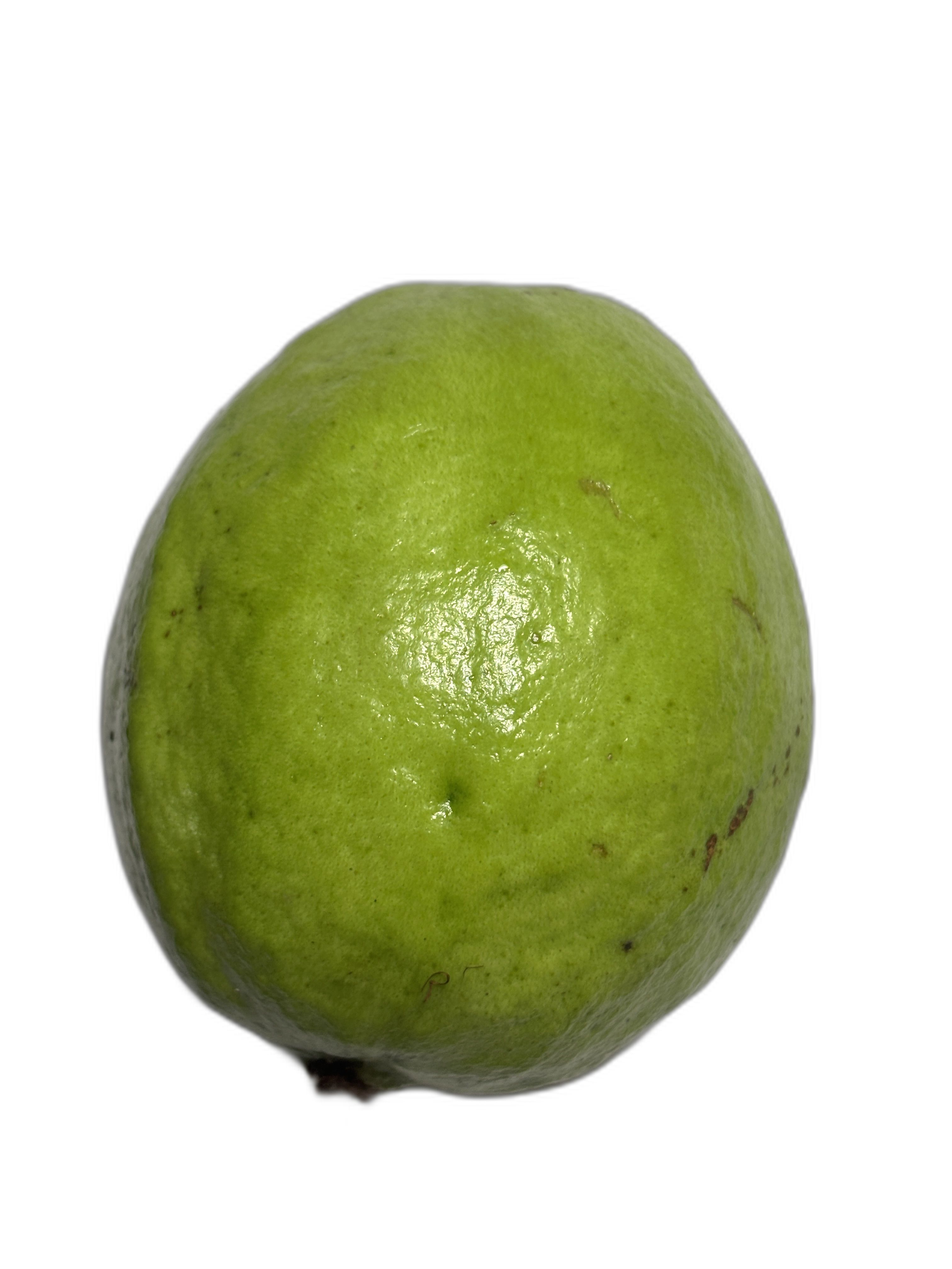guava: (51, 269, 796, 1175)
